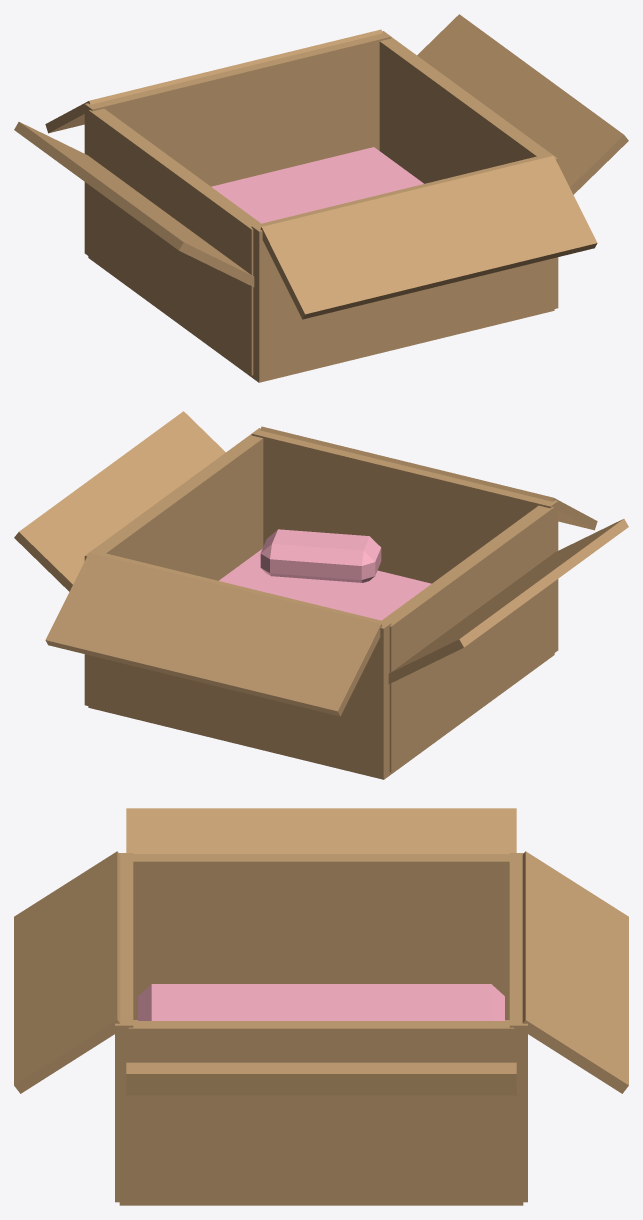
File: CleanACat_Prop_StrayBox.fbx
The picture shows the model from 3 angles, top to bottom: view 1: azimuth 30°, elevation 25°; view 2: azimuth 150°, elevation 25°; view 3: azimuth 270°, elevation 25°; orthographic projection. The views are drawn at different scales.
Visible parts, largest first — view 1: CleanACat_Prop_StrayBox; view 2: CleanACat_Prop_StrayBox; view 3: CleanACat_Prop_StrayBox.
Boxes of the visible parts, box(x1,y1,x2,y2) form: CleanACat_Prop_StrayBox: box(14, 14, 628, 382); CleanACat_Prop_StrayBox: box(14, 411, 628, 779); CleanACat_Prop_StrayBox: box(14, 808, 628, 1205).
Bounding box in the file's own units: 2.68 × 0.8882 × 2.68.
1 material, 1 textured.
